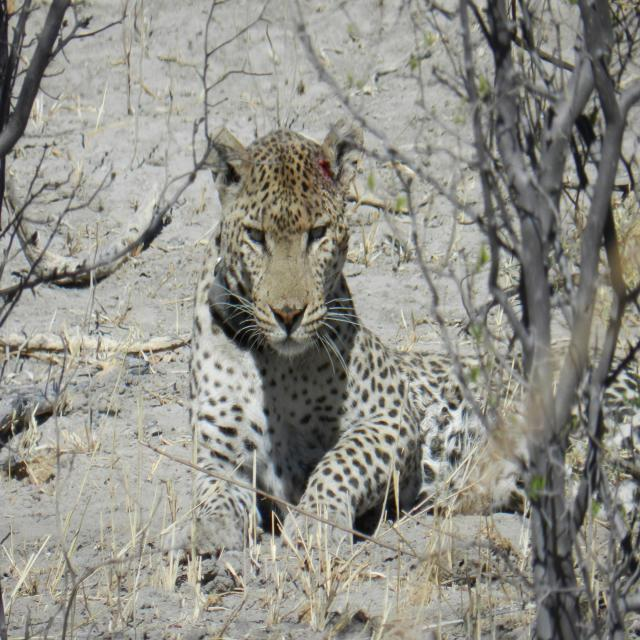Leopard: (158, 116, 604, 576)
